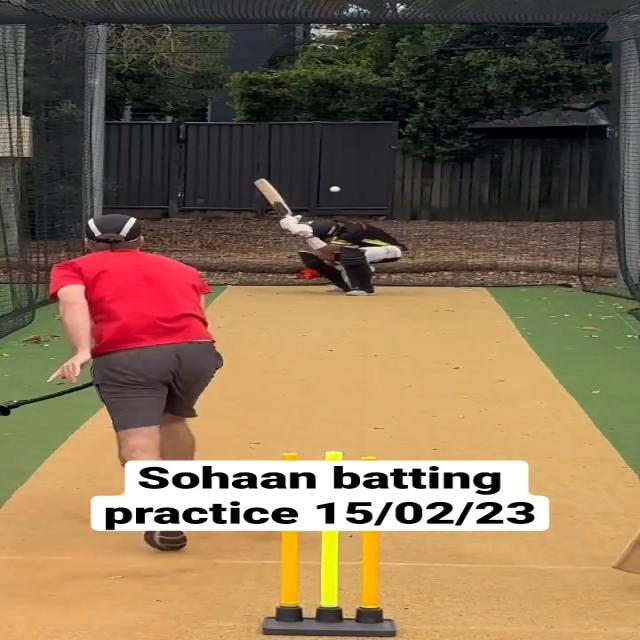ball: (329, 185, 341, 192)
stump: (266, 530, 396, 638)
